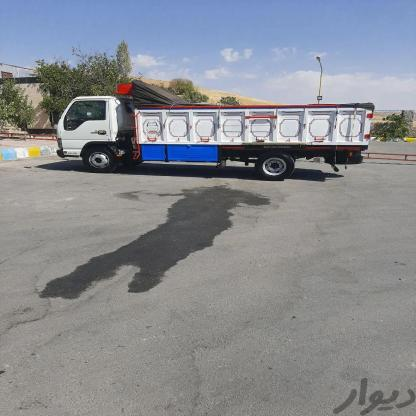Truck: (57, 88, 369, 187)
